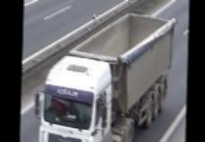truck: (33, 12, 174, 142)
